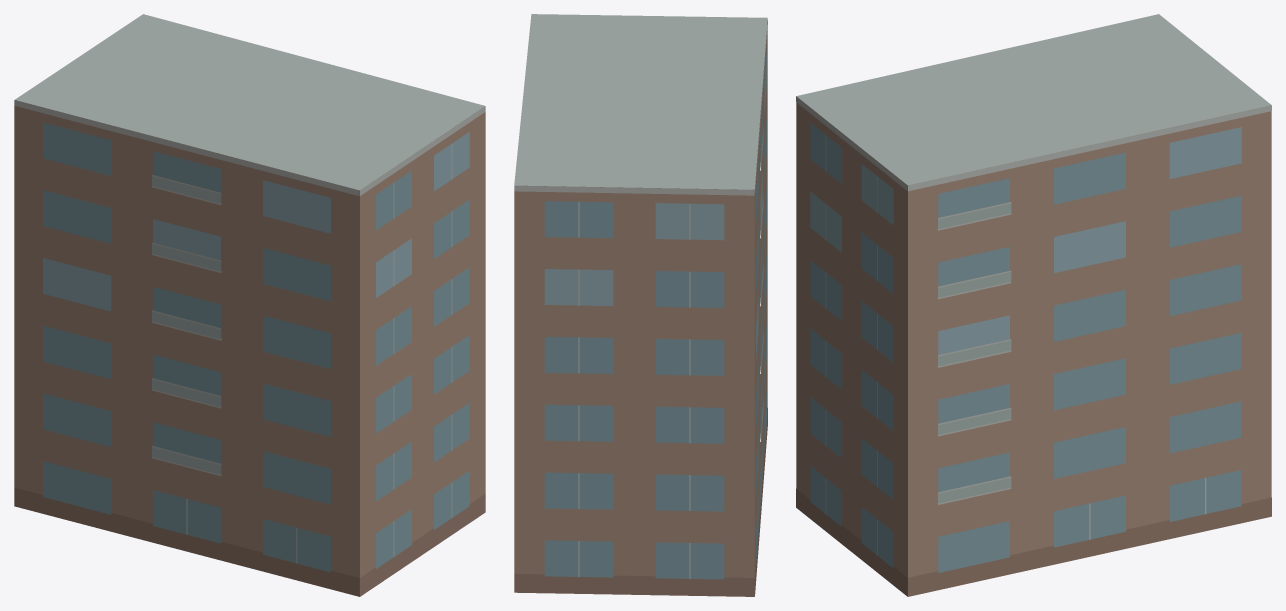
File: survey-upis-32889409.glb
3 views of the same model, side by side, from view 1: azimuth 30°, elevation 25°; view 2: azimuth 150°, elevation 25°; view 3: azimuth 270°, elevation 25° (orthographic).
Parts seen in each view (by area): view 1: survey-upis-32889409.tmp; view 2: survey-upis-32889409.tmp; view 3: survey-upis-32889409.tmp.
Part boxes in pixels (x1,y1,x2,y2): survey-upis-32889409.tmp: [14, 14, 485, 596]; survey-upis-32889409.tmp: [514, 14, 767, 596]; survey-upis-32889409.tmp: [796, 14, 1271, 596].
Size of the model in its own units: 15.11 by 16.9 by 17.72.
